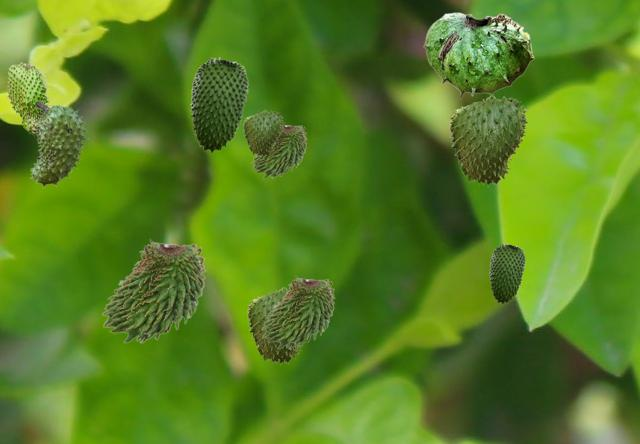guyabano: (101, 238, 205, 342), (423, 12, 533, 98), (449, 95, 528, 186), (190, 57, 247, 152), (261, 275, 334, 348), (29, 101, 88, 187), (247, 287, 303, 364), (6, 62, 49, 135), (251, 124, 306, 177), (489, 243, 524, 303), (243, 110, 283, 156)
